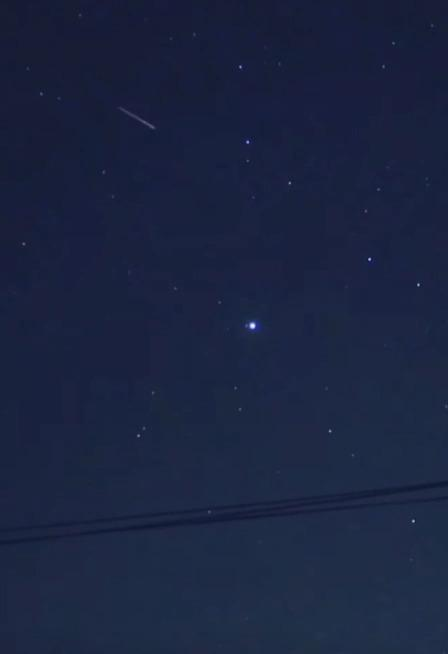meteorite: (103, 98, 173, 141)
